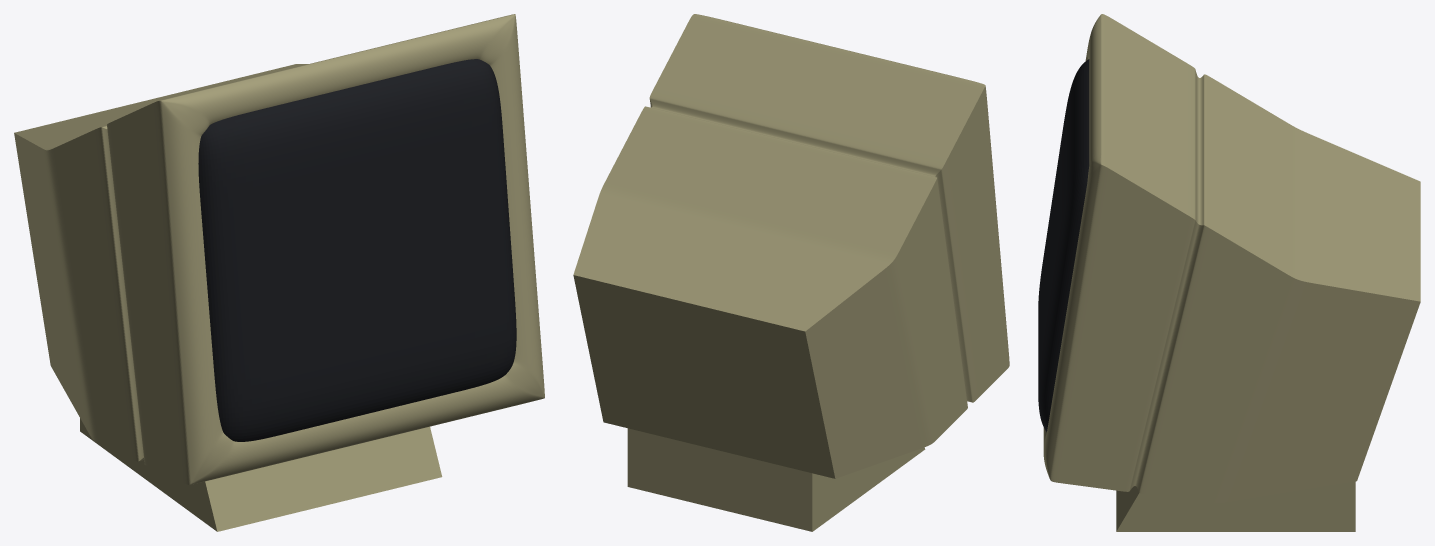
File: Screen.fbx
3 views of the same model, side by side, from view 1: azimuth 30°, elevation 25°; view 2: azimuth 150°, elevation 25°; view 3: azimuth 270°, elevation 25° (orthographic). The views are drawn at different scales.
Visible parts, largest first — view 1: монитор; view 2: монитор; view 3: монитор.
Part boxes in pixels (<box>): монитор: <box>14,14,544,531</box>; монитор: <box>573,14,1009,531</box>; монитор: <box>1038,14,1420,531</box>.
Bounding box in the file's own units: 200 × 243 × 213.
